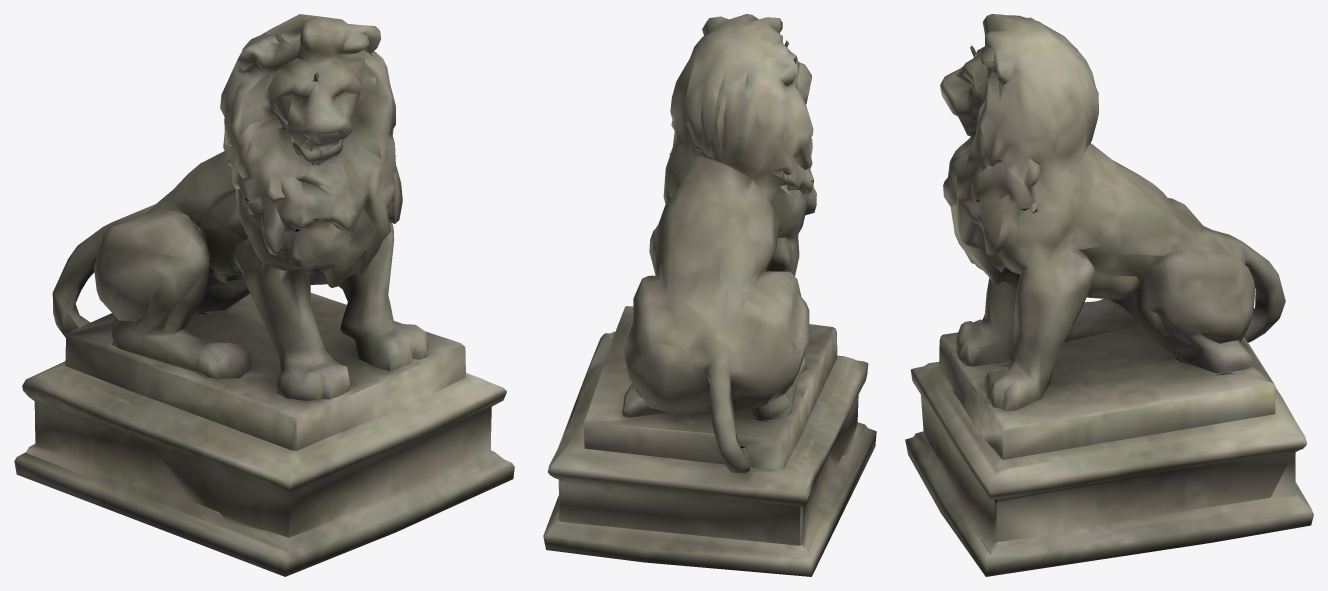
The model's file is sturdy-limestone-statue-v001.glb.
The picture shows the model from 3 angles, left to right: view 1: azimuth 30°, elevation 25°; view 2: azimuth 150°, elevation 25°; view 3: azimuth 270°, elevation 25°; orthographic projection. The views are drawn at different scales.
Parts seen in each view (by area): view 1: sturdy-limestone-statue; view 2: sturdy-limestone-statue; view 3: sturdy-limestone-statue.
Part boxes in pixels (x1,y1,x2,y2): sturdy-limestone-statue: (14, 14, 514, 576); sturdy-limestone-statue: (543, 14, 876, 576); sturdy-limestone-statue: (905, 14, 1313, 576).
Size of the model in its own units: 0.8083 by 1.05 by 0.8179.
1 material, 1 textured.
